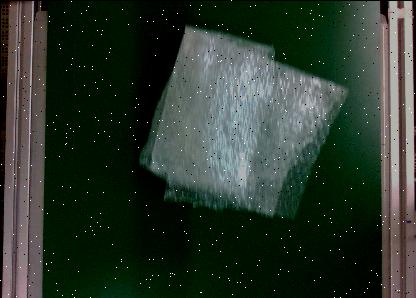Others: (138, 20, 350, 220)
